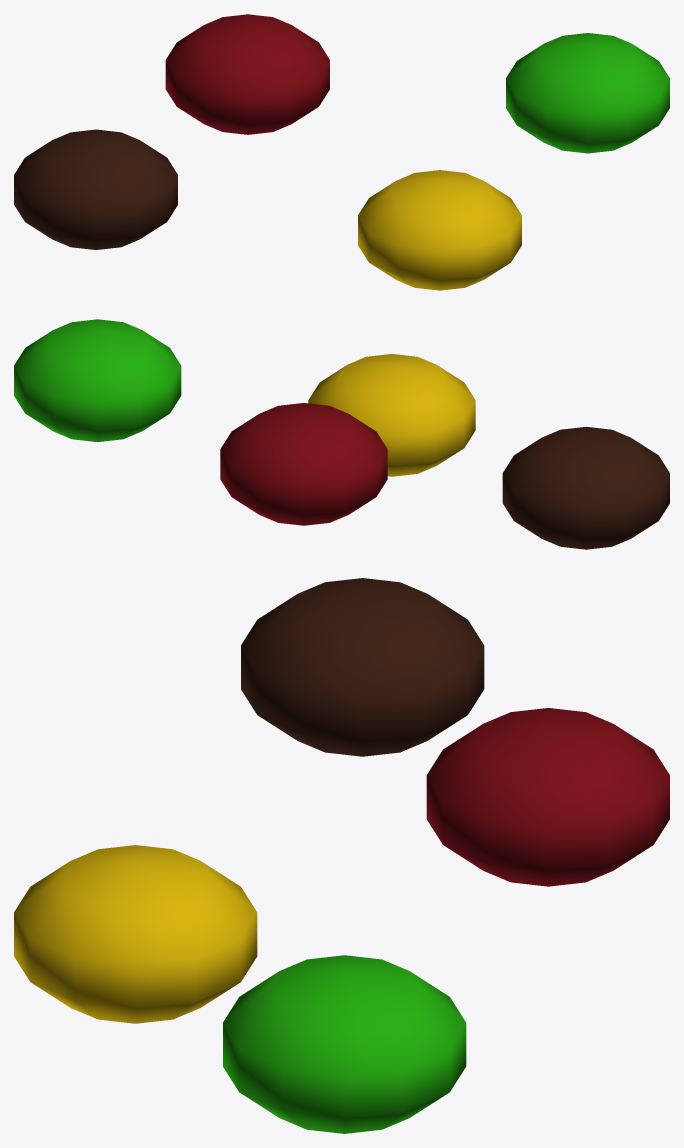
File: M&MSmooth.fbx
3 views of the same model, one above another, from view 1: azimuth 30°, elevation 25°; view 2: azimuth 150°, elevation 25°; view 3: azimuth 270°, elevation 25° (orthographic). The views are drawn at different scales.
Visible parts, largest first — view 1: Sphere.002, Sphere.004, Sphere.003, Sphere.001; view 2: Sphere.002, Sphere.001, Sphere.003, Sphere.004; view 3: Sphere.001, Sphere.002, Sphere.003, Sphere.004.
Boxes of the visible parts, left/top/right/bottom form: Sphere.002: left=165, top=14, right=329, bottom=134; Sphere.004: left=358, top=170, right=521, bottom=290; Sphere.003: left=14, top=129, right=177, bottom=249; Sphere.001: left=506, top=33, right=669, bottom=153; Sphere.002: left=220, top=403, right=387, bottom=525; Sphere.001: left=14, top=319, right=181, bottom=442; Sphere.003: left=502, top=426, right=669, bottom=549; Sphere.004: left=308, top=354, right=475, bottom=476; Sphere.001: left=223, top=955, right=466, bottom=1133; Sphere.002: left=426, top=708, right=669, bottom=886; Sphere.003: left=241, top=578, right=484, bottom=756; Sphere.004: left=14, top=845, right=257, bottom=1023.
Bounding box in the file's own units: 44.95 × 11.14 × 27.44.
